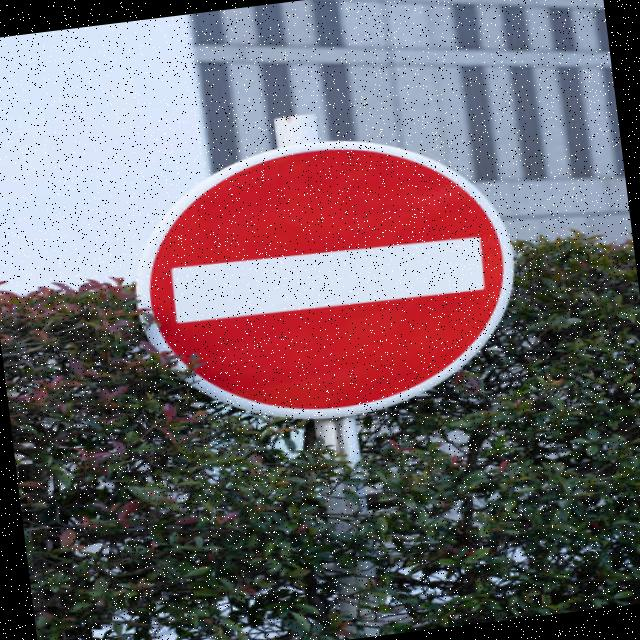do_not_enter: (101, 99, 561, 446)
